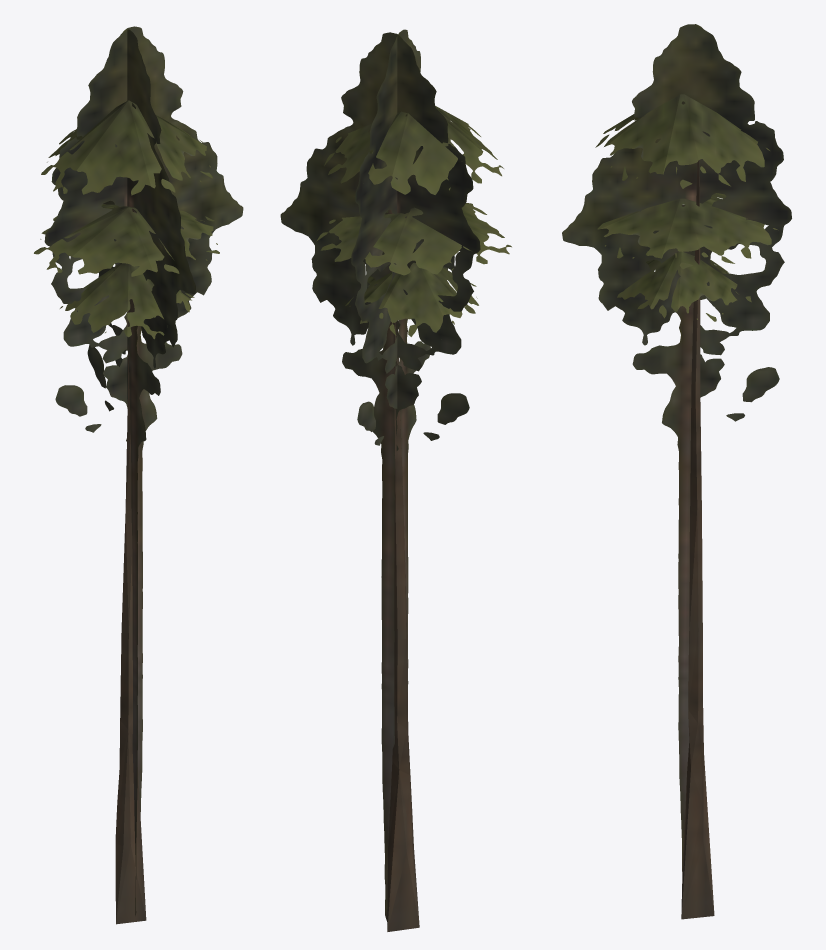
File: forest_pine005.glb
3 views of the same model, side by side, from view 1: azimuth 30°, elevation 25°; view 2: azimuth 150°, elevation 25°; view 3: azimuth 270°, elevation 25° (orthographic).
Size of the model in its own units: 2.53 by 9.5 by 2.44.
1 material, 1 textured.
